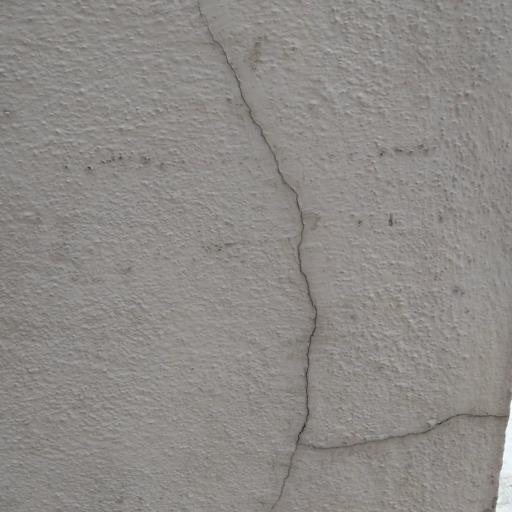minor_crack: (182, 0, 512, 512)
